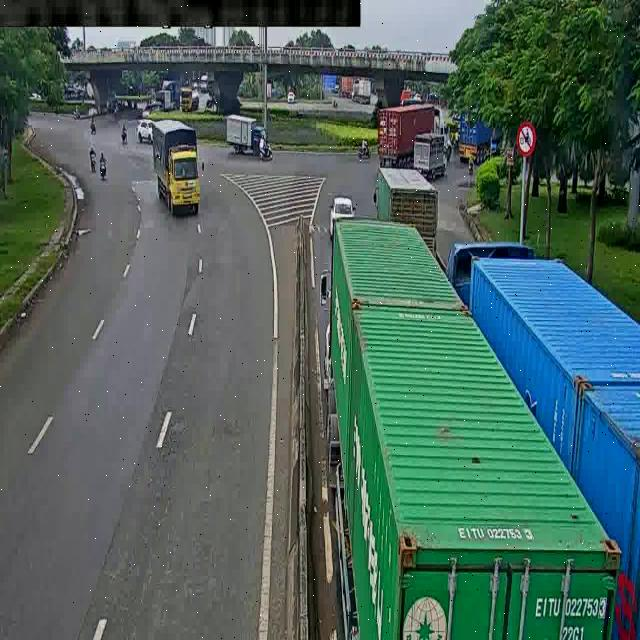car: (326, 183, 358, 236), (133, 115, 159, 139), (283, 89, 301, 106)
motorbike: (87, 140, 104, 180), (117, 121, 138, 153), (95, 150, 113, 179), (90, 111, 98, 132)
truck: (312, 211, 621, 640), (440, 238, 640, 640), (366, 162, 448, 261), (144, 115, 210, 224), (372, 97, 460, 167), (457, 104, 512, 161), (221, 111, 281, 150), (416, 131, 461, 181), (336, 74, 380, 108), (155, 74, 184, 111), (185, 87, 201, 112)
